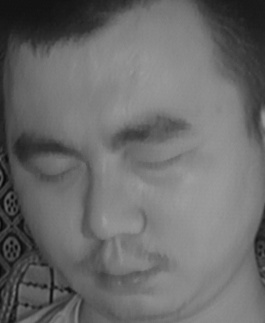blink: (134, 144, 190, 182), (34, 156, 80, 192)
mouth: (84, 248, 161, 297)
